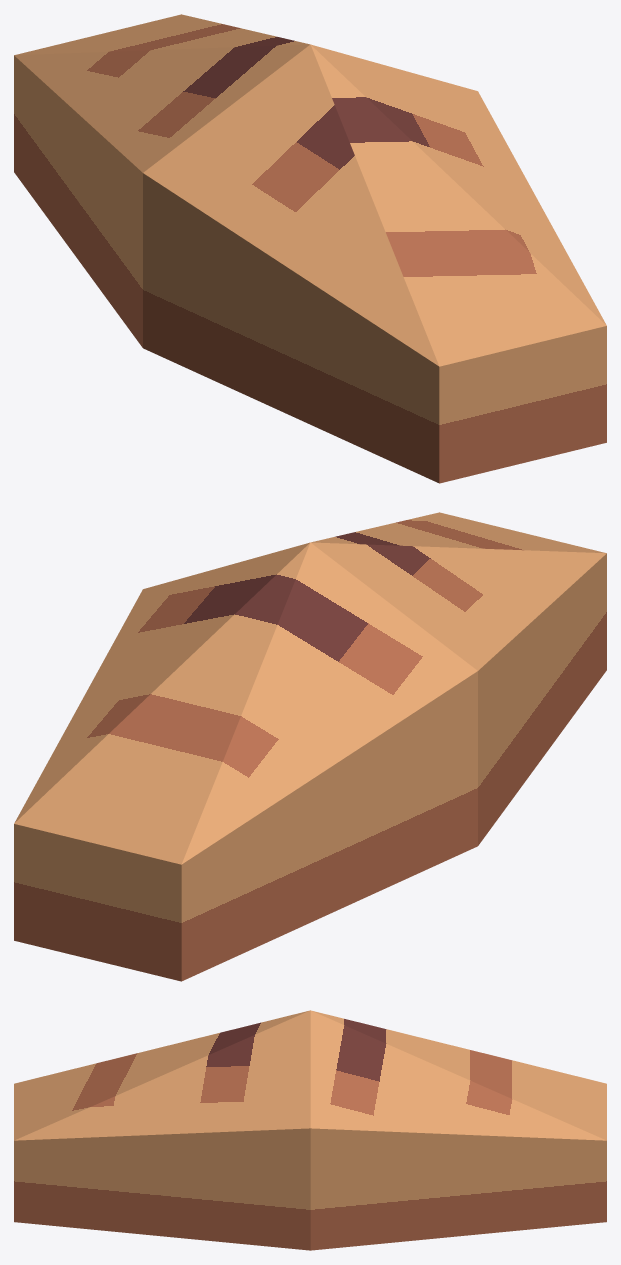
Rendered from Bread.gltf.
The picture shows the model from 3 angles, top to bottom: view 1: azimuth 30°, elevation 25°; view 2: azimuth 150°, elevation 25°; view 3: azimuth 270°, elevation 25°; orthographic projection. The views are drawn at different scales.
Parts seen in each view (by area): view 1: sphere; view 2: sphere; view 3: sphere.
Part boxes in pixels (<box>): sphere: <box>14,14,606,483</box>; sphere: <box>14,512,606,981</box>; sphere: <box>14,1010,606,1250</box>.
Size of the model in its own units: 0.375 by 0.3125 by 0.8248.
Materials: 1 (1 with a texture image).
